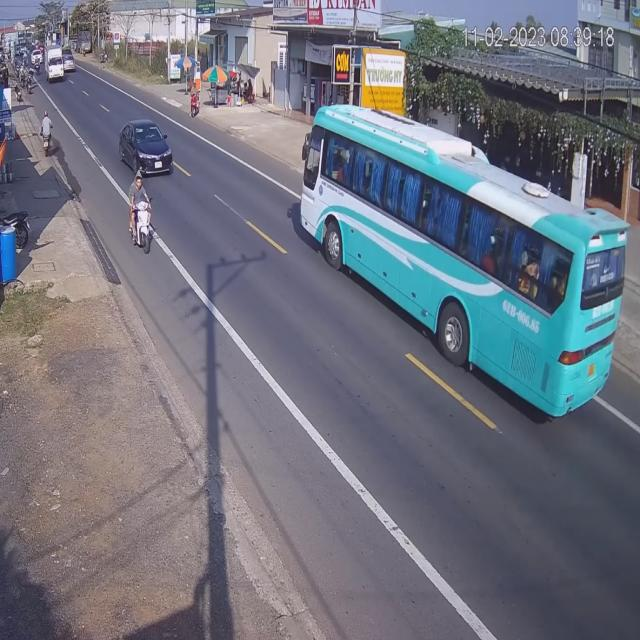bus: (298, 100, 626, 428)
car: (119, 119, 173, 176)
motorbike: (132, 177, 156, 254), (40, 112, 54, 155), (189, 92, 199, 119)
truck: (45, 47, 65, 84)
